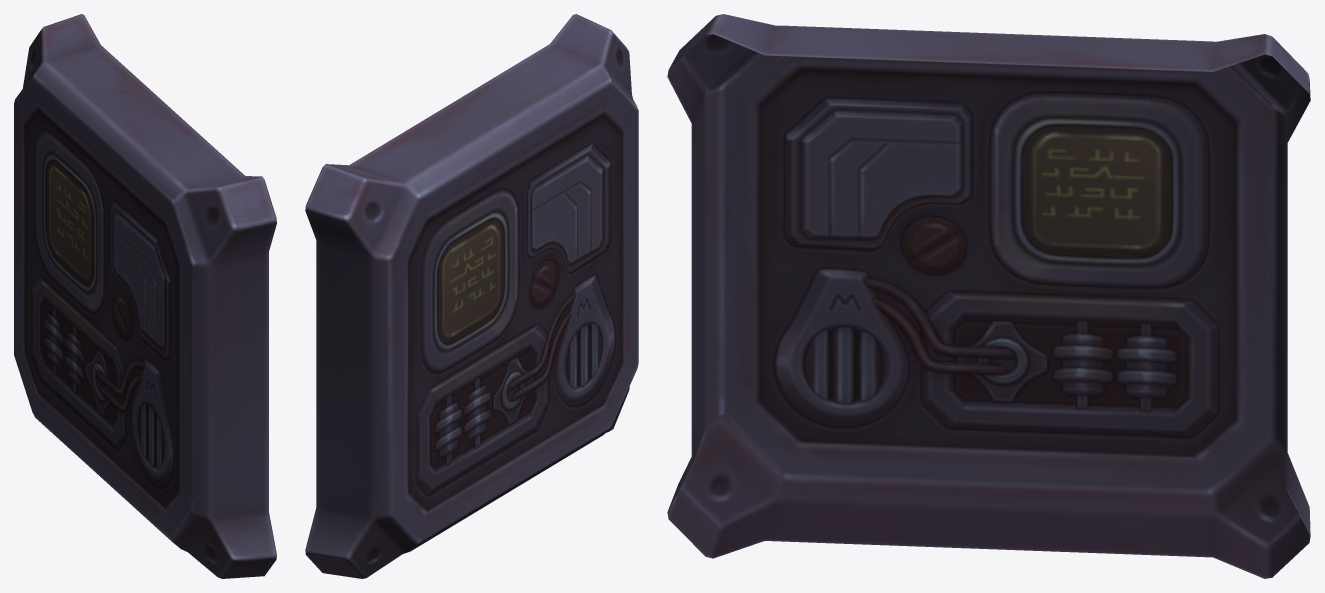
The model's file is mechanisms_03.fbx.
The picture shows the model from 3 angles, left to right: view 1: azimuth 30°, elevation 25°; view 2: azimuth 150°, elevation 25°; view 3: azimuth 270°, elevation 25°; orthographic projection. The views are drawn at different scales.
Parts seen in each view (by area): view 1: wh_mechanisms_03; view 2: wh_mechanisms_03; view 3: wh_mechanisms_03.
Part boxes in pixels (<box>): wh_mechanisms_03: <box>14,14,276,578</box>; wh_mechanisms_03: <box>305,14,638,578</box>; wh_mechanisms_03: <box>667,14,1310,578</box>.
Size of the model in its own units: 0.2205 by 0.8222 by 0.9139.
